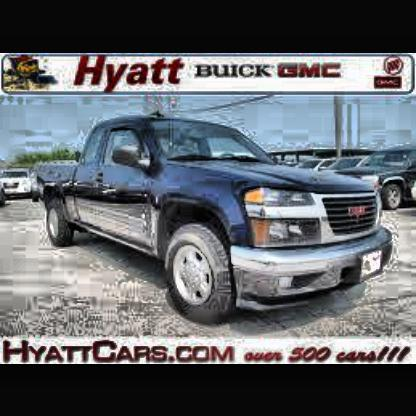GMC Canyon Extended Cab 2012: (35, 107, 404, 327)
